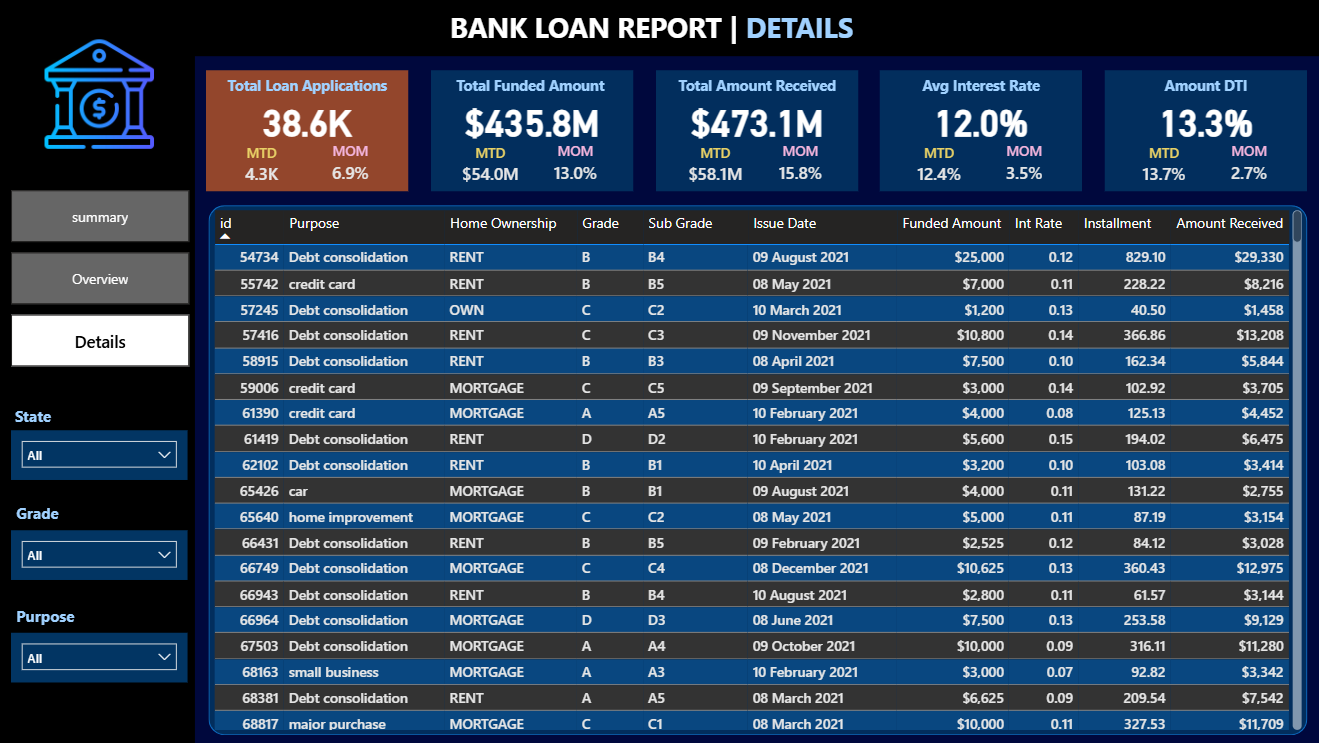

This screenshot's page, from the dashboard's own definition file:
{"tool":"powerbi","page":{"name":"Details","canvas":[1280,720],"ordinal":2},"visuals":[{"type":"textbox","box":[0,54.9,192,665],"z":0},{"type":"textbox","box":[0,0,1280,55.5],"z":1000},{"type":"textbox","box":[433.1,3.6,441.6,47.1],"z":2000},{"type":"group","id":"g1","title":"Group 1","box":[202.7,68.8,195.4,117],"z":3000},{"type":"textbox","box":[202.7,68.8,195.4,117],"z":3000,"group":"g1"},{"type":"textbox","box":[419.5,68.8,195.4,117],"z":3000,"group":"g2"},{"type":"textbox","box":[636.4,68.8,195.4,117],"z":3000,"group":"g4"},{"type":"textbox","box":[853.3,68.8,195.4,117],"z":3000,"group":"g3"},{"type":"textbox","box":[1070.1,68.8,195.4,117],"z":3000,"group":"g5"},{"type":"group","id":"g2","title":"Group 1","box":[419.5,68.8,195.4,117],"z":4000},{"type":"card","fields":{"Values":["bank_loan_data.Total loan applications"]},"box":[202.7,94.1,195.4,45.8],"z":4000,"group":"g1"},{"type":"card","fields":{"Values":["bank_loan_data.Total Funded Amount"]},"box":[419.5,94.1,195.4,45.8],"z":4000,"group":"g2"},{"type":"card","fields":{"Values":["bank_loan_data.Total Amount Received"]},"box":[636.4,94.1,195.4,45.8],"z":4000,"group":"g4"},{"type":"card","fields":{"Values":["bank_loan_data.Avg Interest Rate"]},"box":[853.3,94.1,195.4,45.8],"z":4000,"group":"g3"},{"type":"card","fields":{"Values":["bank_loan_data.Avg DTI"]},"box":[1070.1,94.1,195.4,45.8],"z":4000,"group":"g5"},{"type":"textbox","box":[202.7,68.8,195.4,30.2],"z":5000,"group":"g1"},{"type":"textbox","box":[419.5,68.8,195.4,30.2],"z":5000,"group":"g2"},{"type":"textbox","box":[636.4,68.8,195.4,30.2],"z":5000,"group":"g4"},{"type":"textbox","box":[853.3,68.8,195.4,30.2],"z":5000,"group":"g3"},{"type":"textbox","box":[1070.1,68.8,195.4,30.2],"z":5000,"group":"g5"},{"type":"card","title":"MTD","fields":{"Values":["bank_loan_data.MTD Loan Applications"]},"box":[224.4,138.8,63.9,45.8],"z":6000,"group":"g1"},{"type":"card","title":"MTD","fields":{"Values":["bank_loan_data.MTD Funded Amount"]},"box":[441.1,139.1,71.2,45.8],"z":6000,"group":"g2"},{"type":"card","title":"MTD","fields":{"Values":["bank_loan_data.MTD Total Amount Recieved"]},"box":[658,139.1,71.2,45.8],"z":6000,"group":"g4"},{"type":"card","title":"MTD","fields":{"Values":["bank_loan_data.MTD Avg Interest Rate"]},"box":[874.9,139.1,71.2,45.8],"z":6000,"group":"g3"},{"type":"card","title":"MTD","fields":{"Values":["bank_loan_data.MTD AVG DTI"]},"box":[1091.7,139.1,71.2,45.8],"z":6000,"group":"g5"},{"type":"textbox","box":[14.5,481.4,168.9,30.2],"z":6000},{"type":"card","title":"MOM","fields":{"Values":["bank_loan_data.MOM Loan Application"]},"box":[313.7,137.6,56.7,47.1],"z":7000,"group":"g1"},{"type":"card","title":"MOM","fields":{"Values":["bank_loan_data.MOM Total Funded Amount"]},"box":[530.5,137.6,56.7,47.1],"z":7000,"group":"g2"},{"type":"card","title":"MOM","fields":{"Values":["bank_loan_data.MOM Total Amount Recieved"]},"box":[747.4,137.6,56.7,47.1],"z":7000,"group":"g4"},{"type":"card","title":"MOM","fields":{"Values":["bank_loan_data.MOM Avg Interest Rate"]},"box":[964.3,137.6,56.7,47.1],"z":7000,"group":"g3"},{"type":"card","title":"MOM","fields":{"Values":["bank_loan_data.MOM AVG DTI"]},"box":[1181.1,137.6,56.7,47.1],"z":7000,"group":"g5"},{"type":"textbox","box":[13.3,387.3,171.3,30.2],"z":7000},{"type":"group","id":"g3","title":"Group 1","box":[853.3,68.8,195.4,117],"z":10000},{"type":"group","id":"g4","title":"Group 1","box":[636.4,68.8,195.4,117],"z":11000},{"type":"group","id":"g5","title":"Group 1","box":[1070.1,68.8,195.4,117],"z":12000},{"type":"shape","box":[205.1,199.1,1060.5,511.5],"z":17000},{"type":"slicer","fields":{"Values":["bank_loan_data.address_state"]},"box":[13.9,416.2,170.1,48.3],"z":23000},{"type":"slicer","fields":{"Values":["bank_loan_data.grade"]},"box":[13.9,512.7,170.1,48.3],"z":24000},{"type":"textbox","box":[14.5,580.3,174.9,30.2],"z":25000},{"type":"slicer","fields":{"Values":["bank_loan_data.purpose"]},"box":[13.9,611.7,170.1,48.3],"z":26000},{"type":"image","box":[13.9,31.4,170.1,120.6],"z":27000},{"type":"pageNavigator","box":[14.5,184.6,172.5,171.3],"z":28000},{"type":"tableEx","fields":{"Values":["bank_loan_data.id","bank_loan_data.purpose","bank_loan_data.home_ownership","bank_loan_data.grade","bank_loan_data.sub_grade","bank_loan_data.issue_date","bank_loan_data.Total Funded Amount","Sum(bank_loan_data.int_rate)","Sum(bank_loan_data.installment)","bank_loan_data.Total Amount Received"]},"box":[205.1,199.1,1060.5,511.5],"z":28002}]}

Visuals, with their boxes in screenshot pixels (x1, y1, x2, y2), scaled from the page's 1280x720 canvas onto the 1319x743 screenshot:
textbox: select_region(0, 57, 198, 742)
textbox: select_region(0, 0, 1318, 57)
textbox: select_region(446, 4, 901, 52)
"Group 1" group: select_region(209, 71, 410, 192)
textbox: select_region(209, 71, 410, 192)
textbox: select_region(432, 71, 634, 192)
textbox: select_region(656, 71, 857, 192)
textbox: select_region(879, 71, 1081, 192)
textbox: select_region(1103, 71, 1304, 192)
"Group 1" group: select_region(432, 71, 634, 192)
card - bank_loan_data.Total loan applications: select_region(209, 97, 410, 144)
card - bank_loan_data.Total Funded Amount: select_region(432, 97, 634, 144)
card - bank_loan_data.Total Amount Received: select_region(656, 97, 857, 144)
card - bank_loan_data.Avg Interest Rate: select_region(879, 97, 1081, 144)
card - bank_loan_data.Avg DTI: select_region(1103, 97, 1304, 144)
textbox: select_region(209, 71, 410, 102)
textbox: select_region(432, 71, 634, 102)
textbox: select_region(656, 71, 857, 102)
textbox: select_region(879, 71, 1081, 102)
textbox: select_region(1103, 71, 1304, 102)
"MTD" card: select_region(231, 143, 297, 190)
"MTD" card: select_region(455, 144, 528, 191)
"MTD" card: select_region(678, 144, 751, 191)
"MTD" card: select_region(902, 144, 975, 191)
"MTD" card: select_region(1125, 144, 1198, 191)
textbox: select_region(15, 497, 189, 528)
"MOM" card: select_region(323, 142, 382, 191)
"MOM" card: select_region(547, 142, 605, 191)
"MOM" card: select_region(770, 142, 829, 191)
"MOM" card: select_region(994, 142, 1052, 191)
"MOM" card: select_region(1217, 142, 1276, 191)
textbox: select_region(14, 400, 190, 431)
"Group 1" group: select_region(879, 71, 1081, 192)
"Group 1" group: select_region(656, 71, 857, 192)
"Group 1" group: select_region(1103, 71, 1304, 192)
shape: select_region(211, 205, 1304, 733)
slicer - bank_loan_data.address_state: select_region(14, 429, 190, 479)
slicer - bank_loan_data.grade: select_region(14, 529, 190, 579)
textbox: select_region(15, 599, 195, 630)
slicer - bank_loan_data.purpose: select_region(14, 631, 190, 681)
image: select_region(14, 32, 190, 157)
pageNavigator: select_region(15, 190, 193, 367)
tableEx - bank_loan_data.id x bank_loan_data.purpose: select_region(211, 205, 1304, 733)
